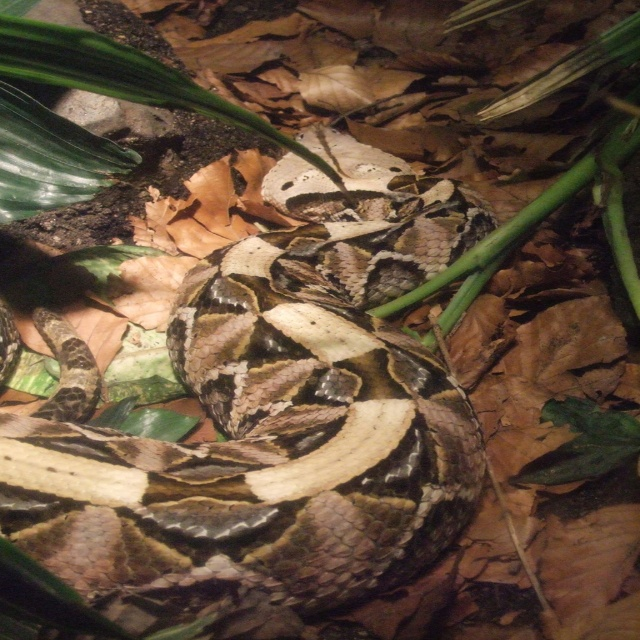Snake: (0, 122, 498, 640)
